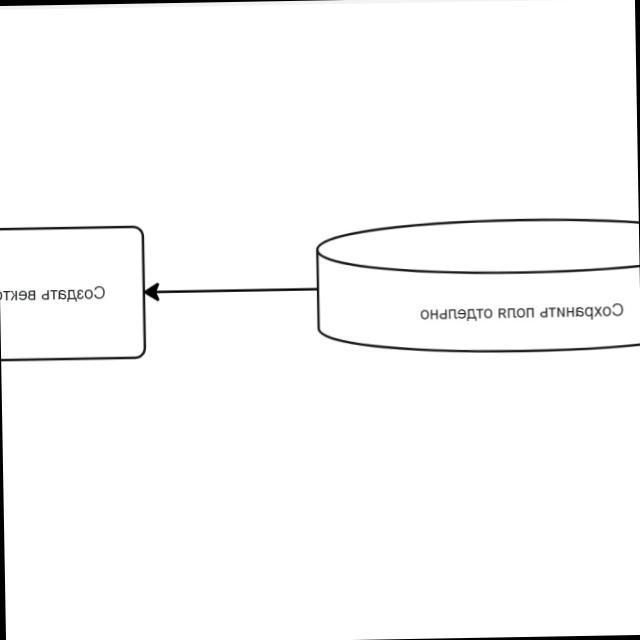arrow: (144, 276, 318, 304)
